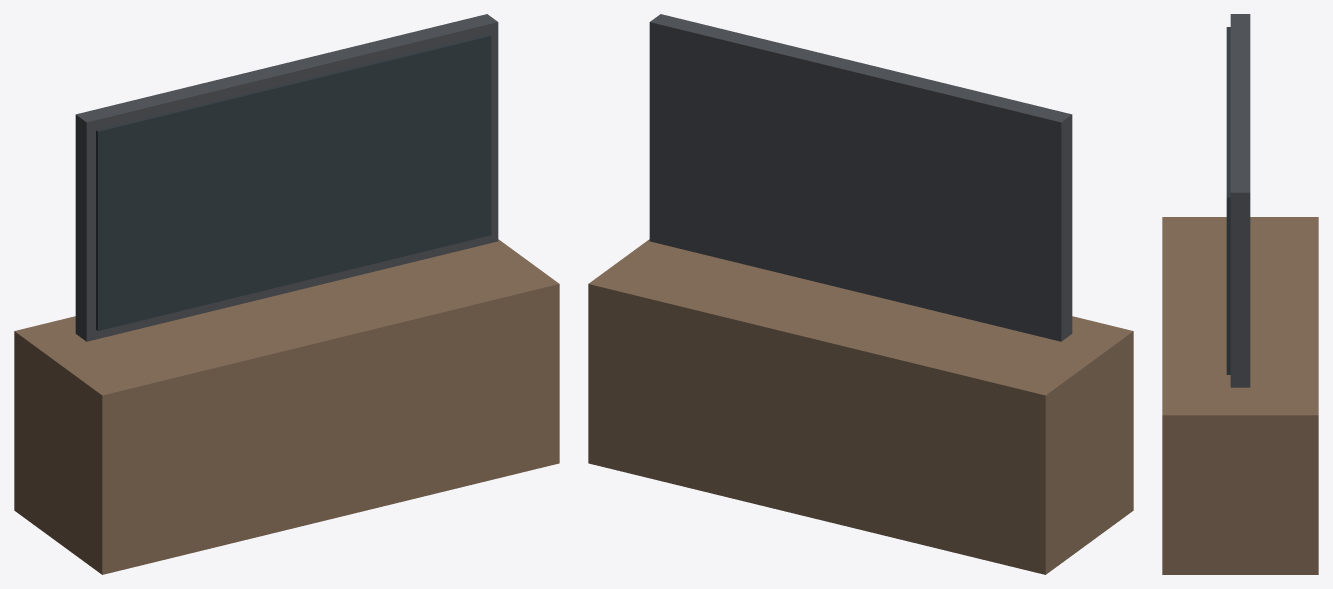
File: 1761-Furniture-interiors-tv.glb
The picture shows the model from 3 angles, left to right: view 1: azimuth 30°, elevation 25°; view 2: azimuth 150°, elevation 25°; view 3: azimuth 270°, elevation 25°; orthographic projection. The views are drawn at different scales.
Visible parts, largest first — view 1: Furniture (interiors)/tv; view 2: Furniture (interiors)/tv; view 3: Furniture (interiors)/tv.
Boxes of the visible parts, bbox=[...] form: Furniture (interiors)/tv: bbox=[14, 14, 559, 574]; Furniture (interiors)/tv: bbox=[588, 14, 1133, 574]; Furniture (interiors)/tv: bbox=[1162, 14, 1318, 574].
Bounding box in the file's own units: 1.2 × 1.05 × 0.4.
